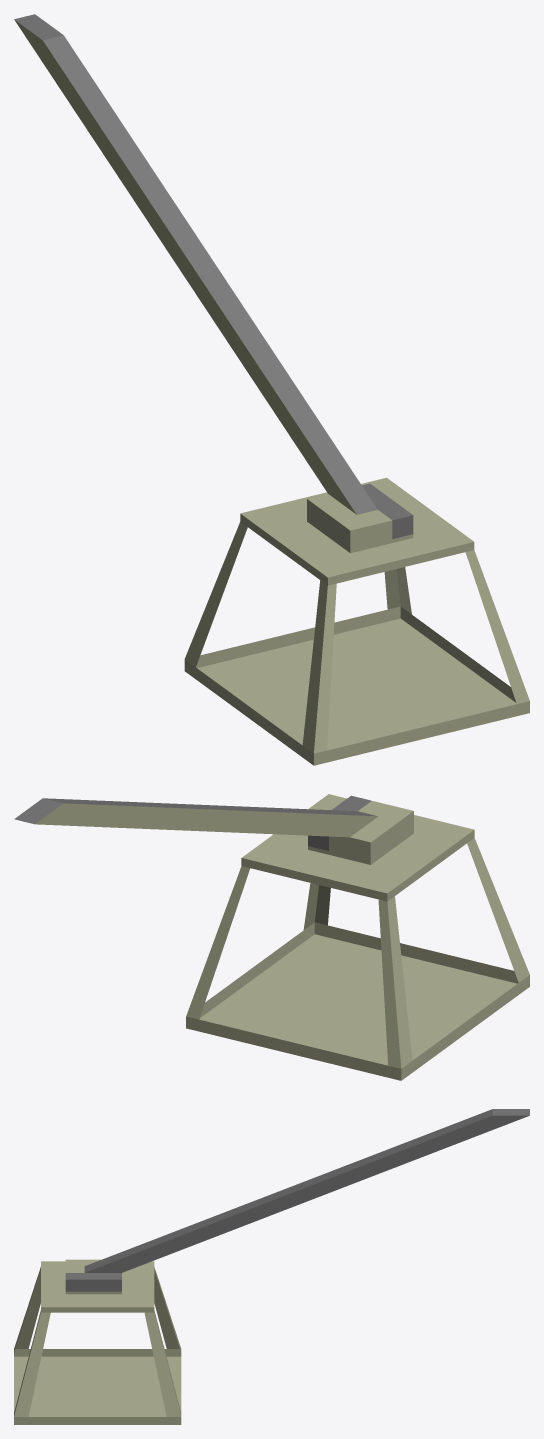
Rendered from single-deck-trolley-pole.dae.
3 views of the same model, one above another, from view 1: azimuth 30°, elevation 25°; view 2: azimuth 150°, elevation 25°; view 3: azimuth 270°, elevation 25° (orthographic). The views are drawn at different scales.
Parts seen in each view (by area): view 1: Cube_003; view 2: Cube_003; view 3: Cube_003.
Boxes of the visible parts, left/top/right/bottom form: Cube_003: left=14, top=14, right=529, bottom=765; Cube_003: left=14, top=794, right=529, bottom=1080; Cube_003: left=14, top=1109, right=529, bottom=1424.
Bounding box in the file's own units: 0.6965 × 2.22 × 1.33.
